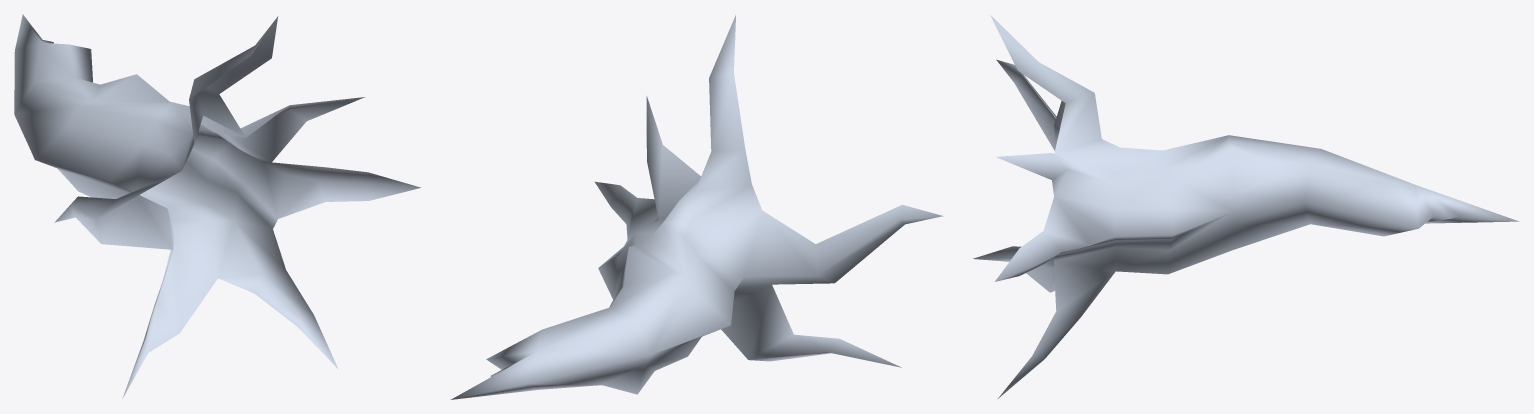
3 renders of one model, left to right at view 1: azimuth 30°, elevation 25°; view 2: azimuth 150°, elevation 25°; view 3: azimuth 270°, elevation 25°, orthographic. The views are drawn at different scales.
Visible parts, largest first — view 1: Object65; view 2: Object65; view 3: Object65.
Part boxes in pixels (box(x1,y1,x2,y2)): Object65: box(14, 14, 420, 398); Object65: box(451, 15, 943, 399); Object65: box(973, 15, 1519, 398).
Size of the model in its own units: 35238 by 34207 by 47696.
